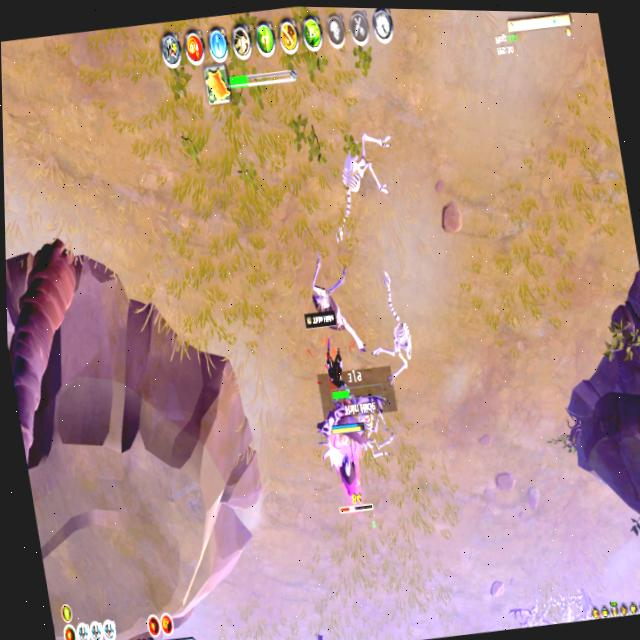mob: (297, 249, 369, 365)
ore: (315, 410, 379, 527)
red: (316, 337, 363, 440)
